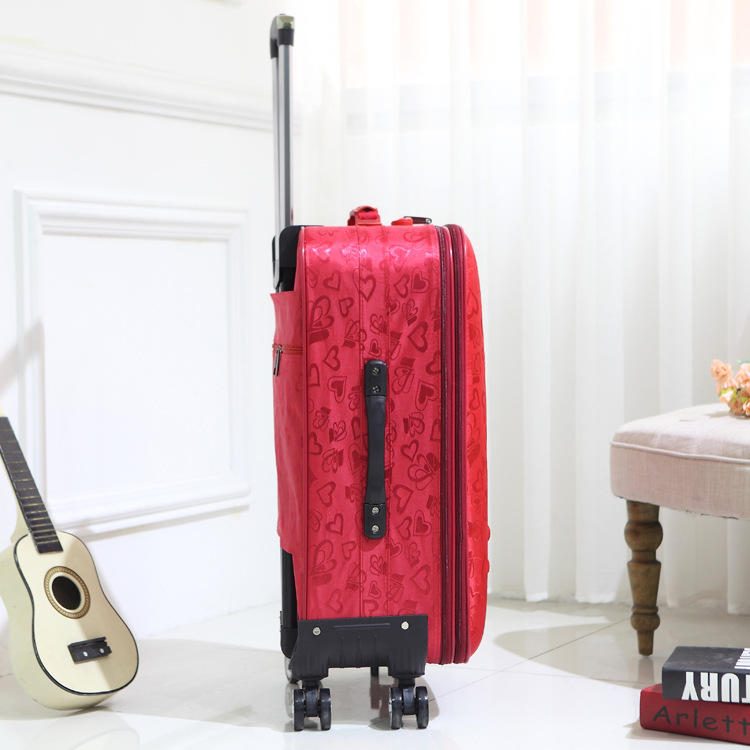luggage: (269, 12, 494, 731)
